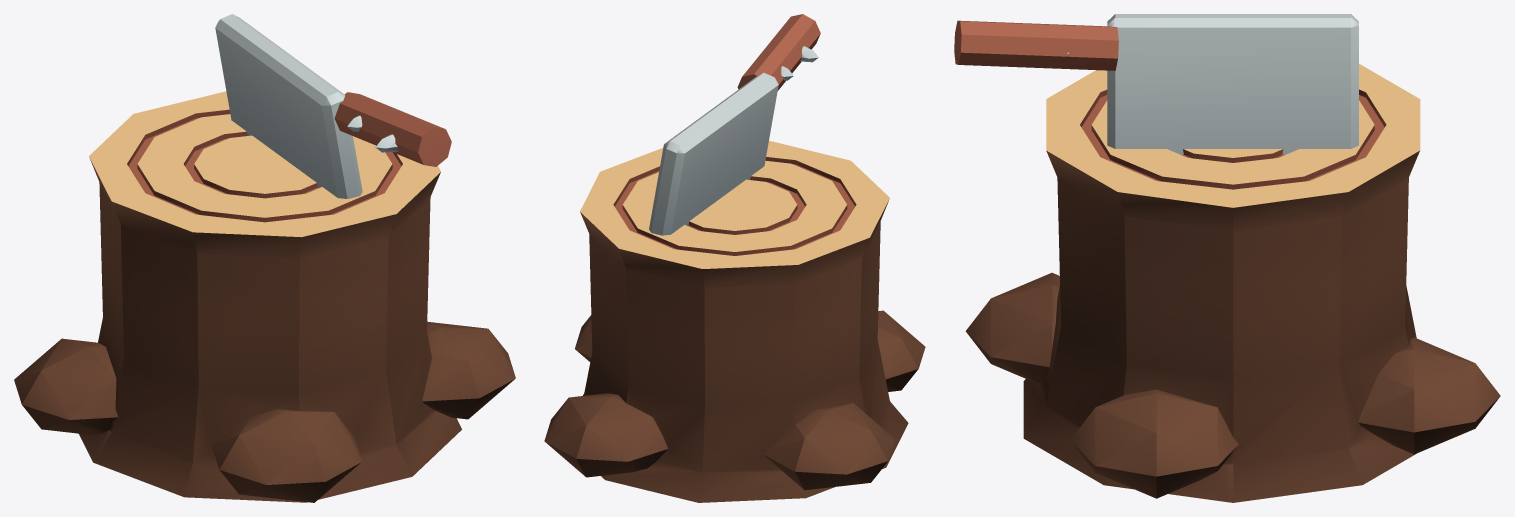
File: chopping_block.glb
3 renders of one model, left to right at view 1: azimuth 30°, elevation 25°; view 2: azimuth 150°, elevation 25°; view 3: azimuth 270°, elevation 25°, orthographic. The views are drawn at different scales.
Parts seen in each view (by area): view 1: Item; view 2: Item; view 3: Item.
Boxes of the visible parts, left/top/right/bottom form: Item: left=14, top=14, right=515, bottom=502; Item: left=544, top=14, right=925, bottom=502; Item: left=954, top=14, right=1500, bottom=502.
Bounding box in the file's own units: 1.36 × 1.16 × 1.39.
2 materials, 2 textured.
